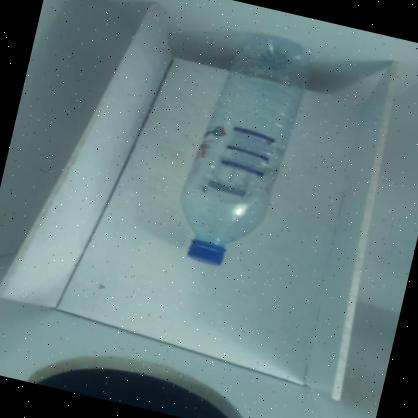bottle: (164, 22, 320, 280)
cap: (183, 236, 227, 269)
label: (193, 118, 289, 187)
